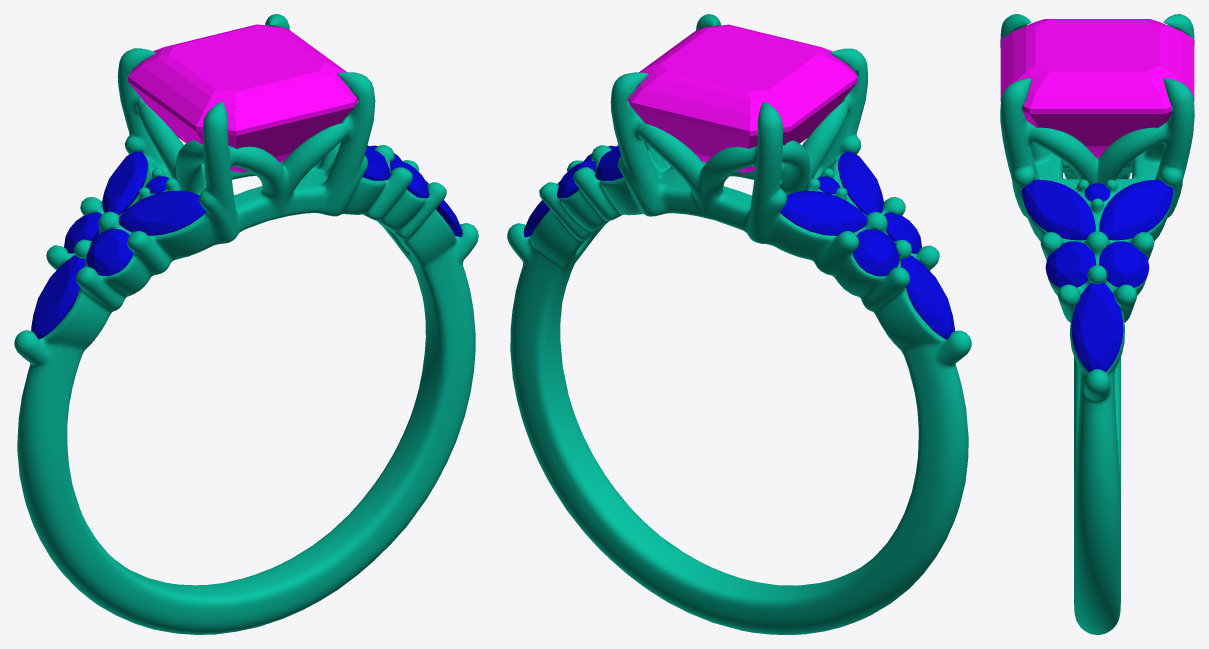
Rendered from BE1D732_AS_200ct_RENDER.glb.
3 views of the same model, side by side, from view 1: azimuth 30°, elevation 25°; view 2: azimuth 150°, elevation 25°; view 3: azimuth 270°, elevation 25° (orthographic).
Visible parts, largest first — view 1: Metal 01, CS_Diamond_Asscher, Diamond_Marquise_side.001, Diamond_Marquise_side, Diamond_Marquise_side.002, Diamond_Round_side, Diamond_Round_side.002, Diamond_Marquise_side.004; view 2: Metal 01, CS_Diamond_Asscher, Diamond_Marquise_side.002, Diamond_Marquise_side, Diamond_Marquise_side.001, Diamond_Round_side.002, Diamond_Round_side, Diamond_Marquise_side.003; view 3: Metal 01, CS_Diamond_Asscher, Diamond_Marquise_side.005, Diamond_Marquise_side.004, Diamond_Marquise_side.003, Diamond_Round_side.003, Diamond_Round_side.005, Diamond_Round_side.004.
Part boxes in pixels (x1,y1,x2,y2): Metal 01: [14, 14, 478, 634]; CS_Diamond_Asscher: [128, 24, 358, 172]; Diamond_Marquise_side.001: [119, 190, 206, 235]; Diamond_Marquise_side: [31, 255, 84, 339]; Diamond_Marquise_side.002: [102, 151, 147, 214]; Diamond_Round_side: [86, 229, 133, 275]; Diamond_Round_side.002: [64, 212, 101, 253]; Diamond_Marquise_side.004: [362, 147, 390, 180]; Metal 01: [507, 14, 971, 634]; CS_Diamond_Asscher: [627, 24, 857, 172]; Diamond_Marquise_side.002: [779, 190, 866, 235]; Diamond_Marquise_side: [901, 255, 954, 339]; Diamond_Marquise_side.001: [838, 151, 883, 215]; Diamond_Round_side.002: [852, 229, 899, 276]; Diamond_Round_side: [884, 212, 921, 253]; Diamond_Marquise_side.003: [595, 147, 623, 180]; Metal 01: [1000, 14, 1194, 634]; CS_Diamond_Asscher: [1000, 19, 1194, 158]; Diamond_Marquise_side.005: [1071, 283, 1123, 372]; Diamond_Marquise_side.004: [1022, 179, 1095, 240]; Diamond_Marquise_side.003: [1099, 179, 1172, 240]; Diamond_Round_side.003: [1099, 241, 1149, 287]; Diamond_Round_side.005: [1045, 241, 1095, 287]; Diamond_Round_side.004: [1084, 183, 1110, 201].
Size of the model in its own units: 20.47 by 24.11 by 7.52.
